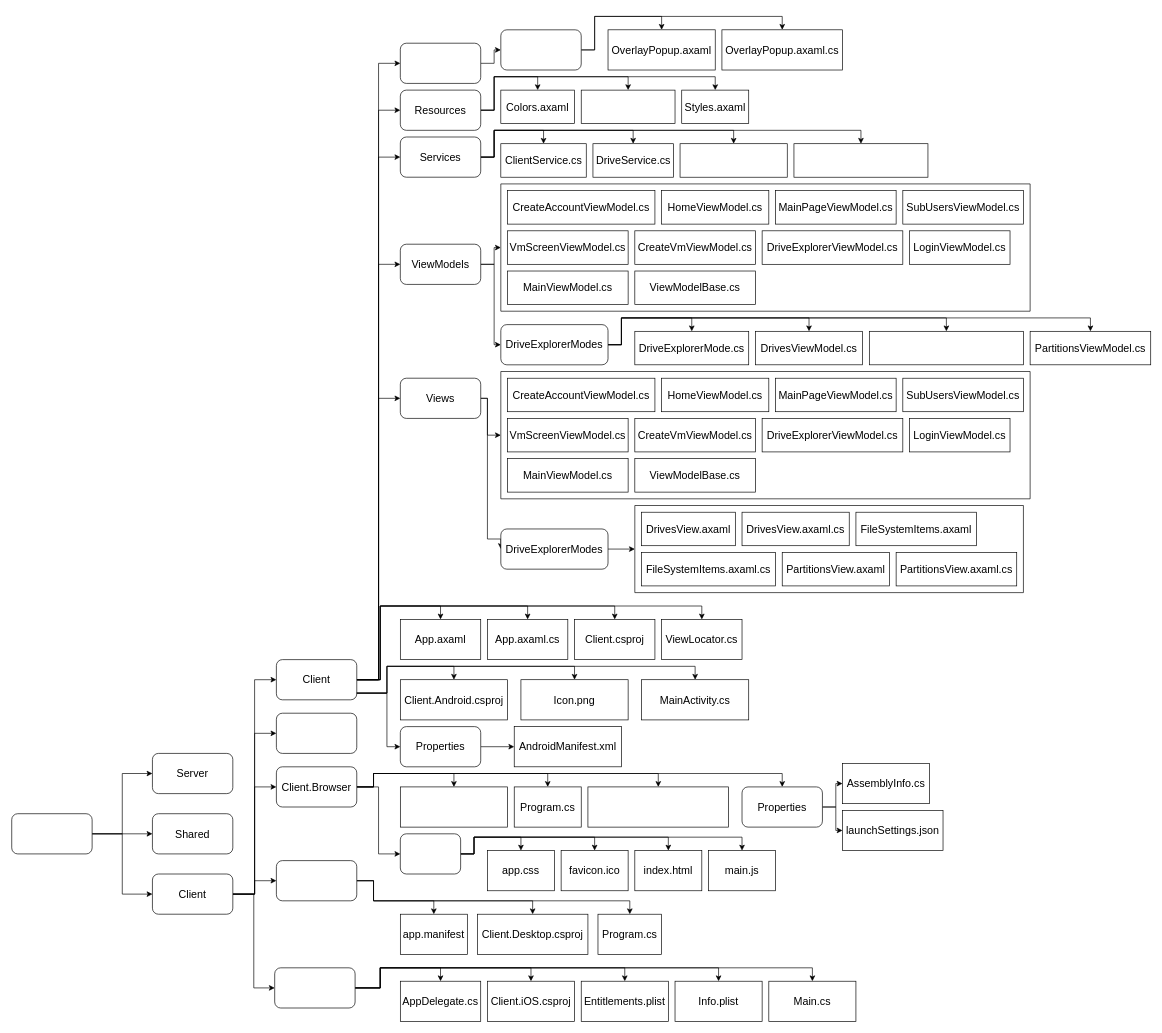
Image size: 1162x1033. Some labels were removed from this diagram. The shapes that lost their labels are listed below. From the top down, each one's box as (x1, y1, x2, y2) in pixels, then its label:
(400, 43, 481, 83): Controls
(500, 29, 581, 70): Templated
(581, 89, 675, 124): Geometries.axaml
(679, 143, 787, 177): NavigationService.cs
(793, 143, 928, 177): PcmAudioPlayerService.cs
(869, 331, 1023, 365): FileSystemItemsViewModel.cs
(276, 713, 357, 753): Client.Android
(400, 786, 508, 827): Client.Browser.csproj
(587, 786, 729, 827): runtimeconfig.template.json
(11, 813, 92, 854): תיקיית המערכת
(400, 833, 461, 874): wwwroot
(276, 860, 357, 901): Client.Desktop
(274, 967, 355, 1008): Client.iOS
